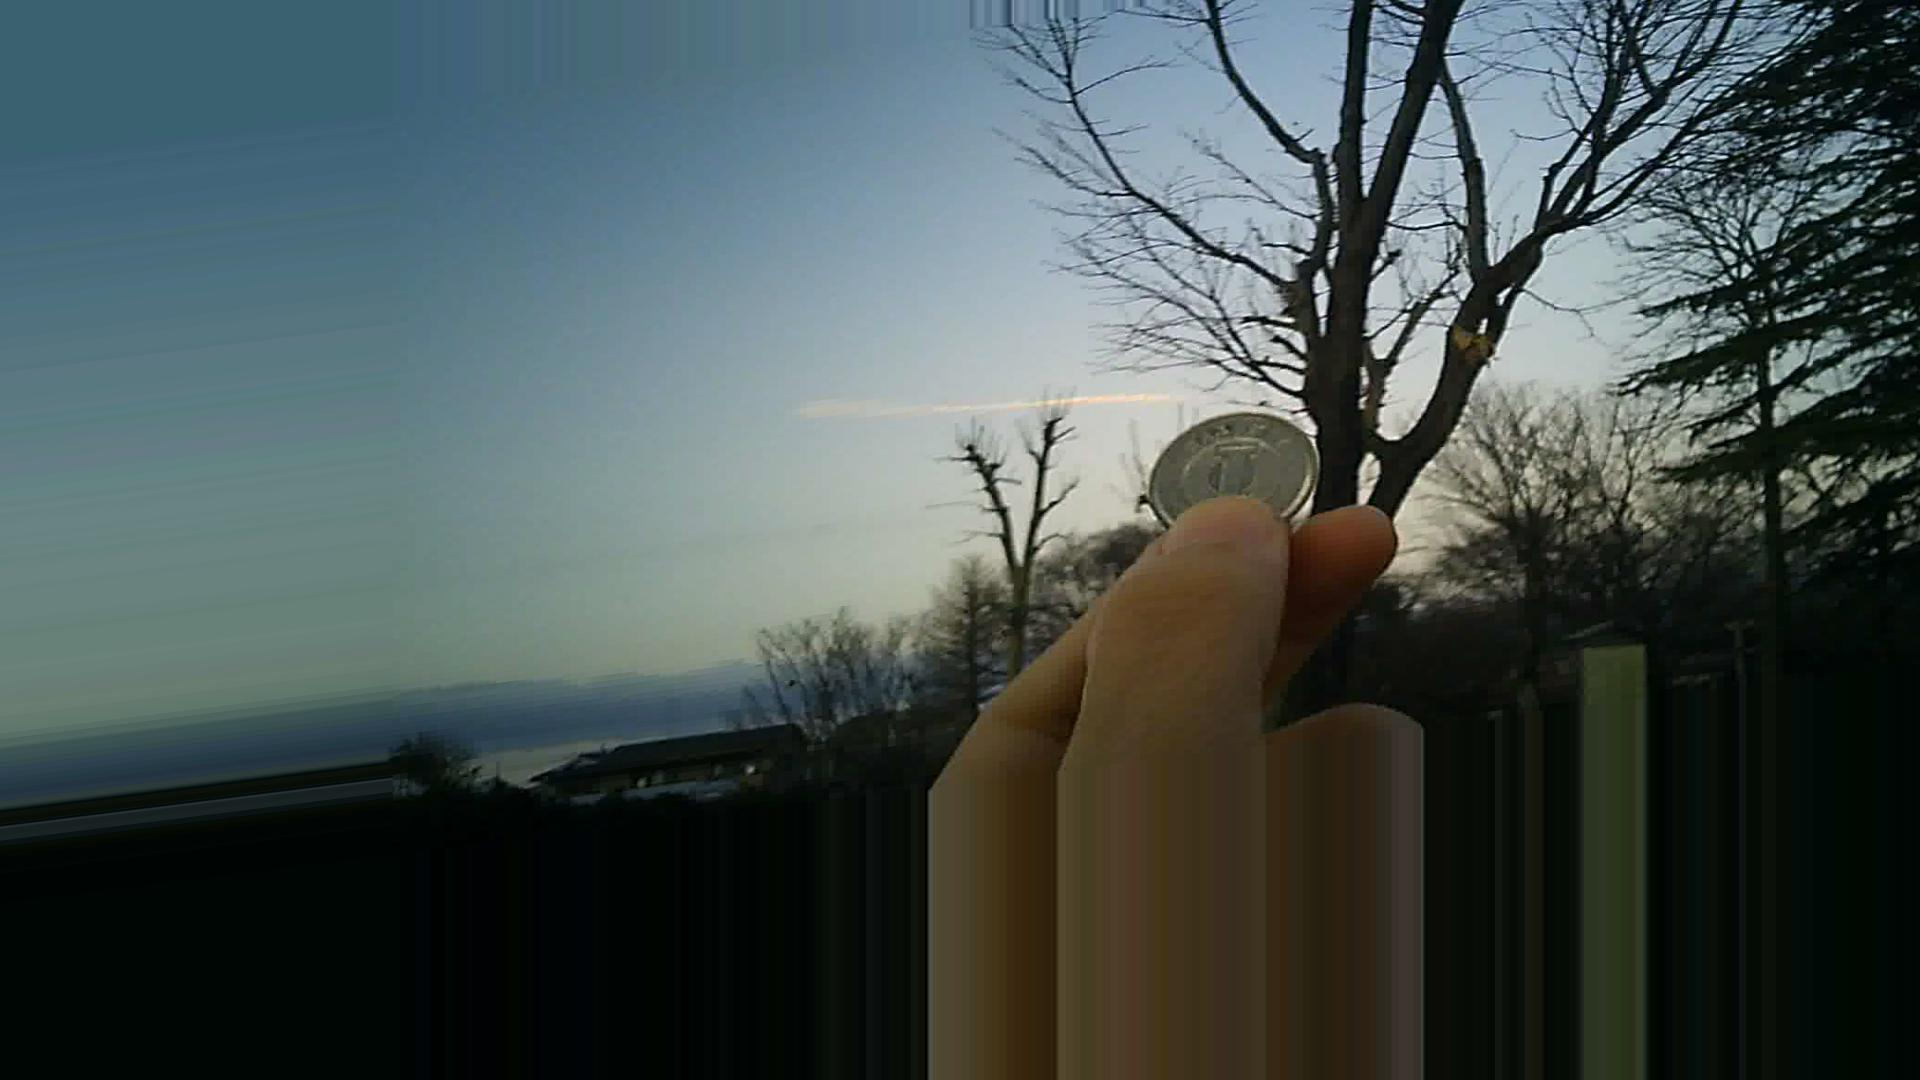1 Yen: (1150, 394, 1316, 560)
